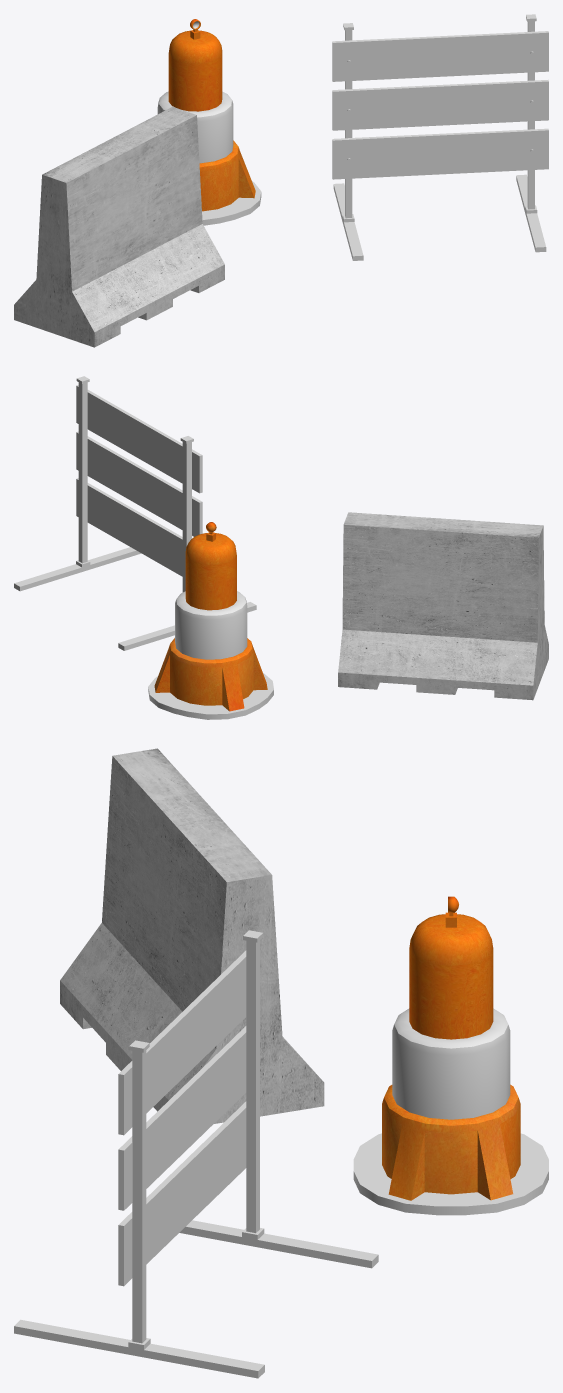
File: Asset barricades 111.fbx
The picture shows the model from 3 angles, top to bottom: view 1: azimuth 30°, elevation 25°; view 2: azimuth 150°, elevation 25°; view 3: azimuth 270°, elevation 25°; orthographic projection. The views are drawn at different scales.
Parts seen in each view (by area): view 1: barricade, Доска 3, Доска 1, Доска 2, Основа, Основа.001, Левая ножка, Правая ножка; view 2: barricade, Основа, Основа.001, Доска 1, Доска 2, Доска 3, Правая ножка, Левая ножка; view 3: barricade, Основа, Основа.001, Правая ножка, Доска 2, Доска 3, Доска 1, Левая ножка.
Part boxes in pixels (x1=…): barricade: x1=14, y1=106, x2=224, y2=347; Доска 3: x1=332, y1=128, x2=548, y2=179; Доска 1: x1=332, y1=31, x2=548, y2=81; Доска 2: x1=332, y1=79, x2=548, y2=130; Основа: x1=168, y1=30, x2=255, y2=211; Основа.001: x1=157, y1=91, x2=261, y2=225; Левая ножка: x1=333, y1=23, x2=363, y2=260; Правая ножка: x1=516, y1=14, x2=546, y2=252; barricade: x1=338, y1=512, x2=548, y2=700; Основа: x1=154, y1=533, x2=267, y2=711; Основа.001: x1=148, y1=591, x2=273, y2=719; Доска 1: x1=76, y1=385, x2=202, y2=493; Доска 2: x1=76, y1=431, x2=202, y2=536; Доска 3: x1=76, y1=478, x2=182, y2=576; Правая ножка: x1=14, y1=376, x2=141, y2=591; Левая ножка: x1=118, y1=436, x2=256, y2=650; barricade: x1=60, y1=748, x2=324, y2=1123; Основа: x1=382, y1=914, x2=520, y2=1200; Основа.001: x1=353, y1=1008, x2=548, y2=1215; Правая ножка: x1=14, y1=1040, x2=264, y2=1378; Доска 2: x1=118, y1=1026, x2=246, y2=1210; Доска 3: x1=118, y1=1101, x2=246, y2=1286; Доска 1: x1=118, y1=950, x2=246, y2=1135; Левая ножка: x1=179, y1=930, x2=378, y2=1268.
Bounding box in the file's own units: 356 × 128 × 202.
Materials: 7 (2 with a texture image).
